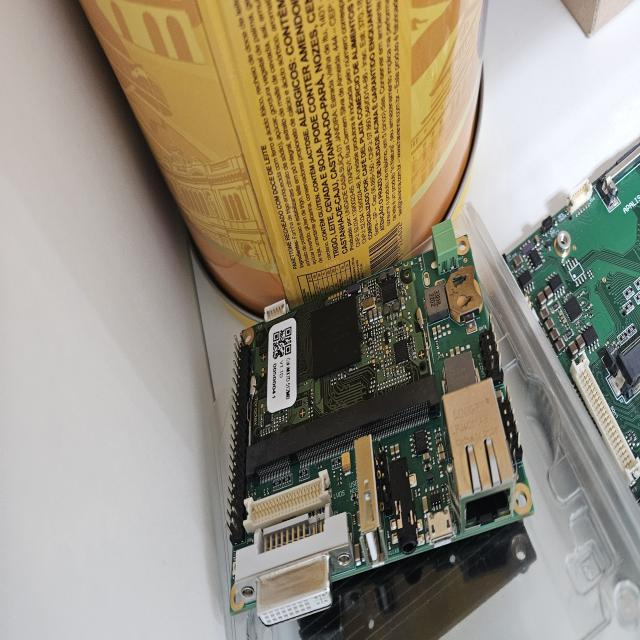som: (239, 256, 427, 452)
